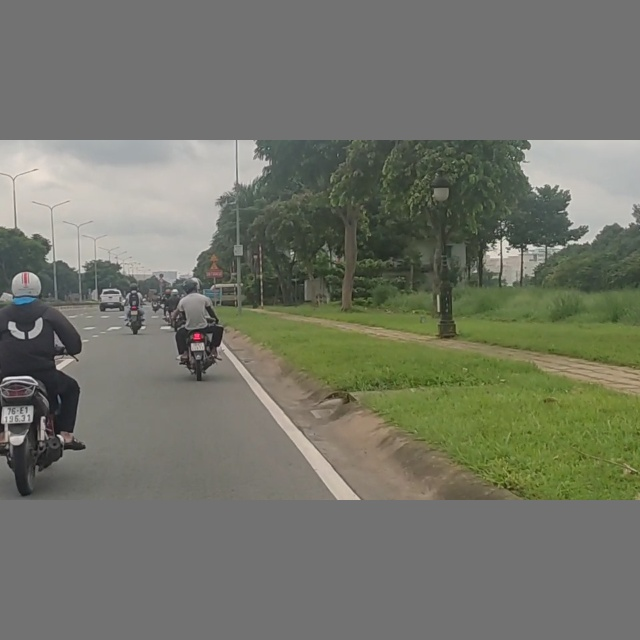P.130: (159, 273, 164, 277)
W.245a: (209, 253, 219, 261)
W.246a: (209, 262, 219, 269)
